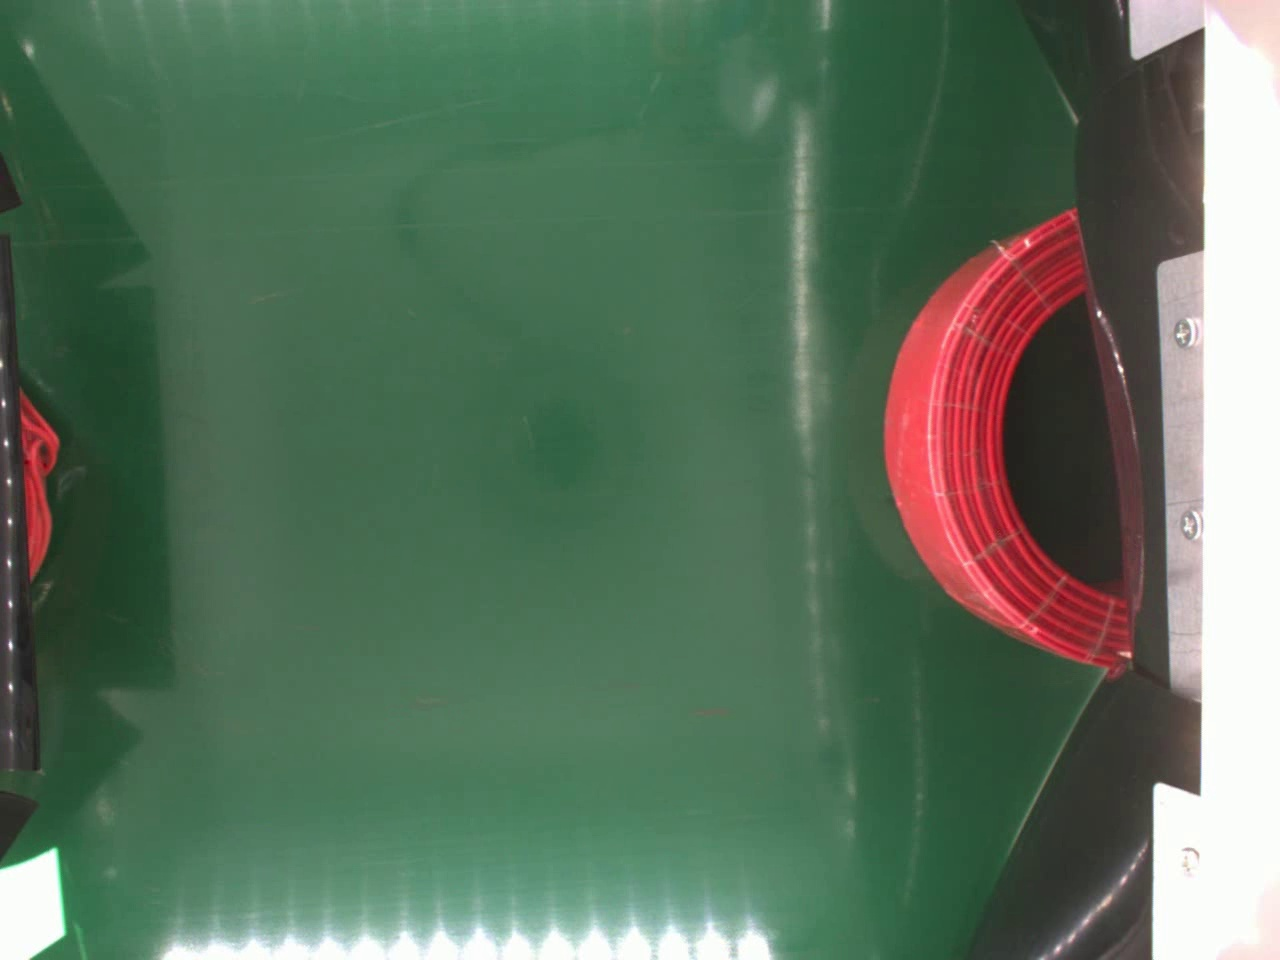red: (878, 202, 1133, 676)
